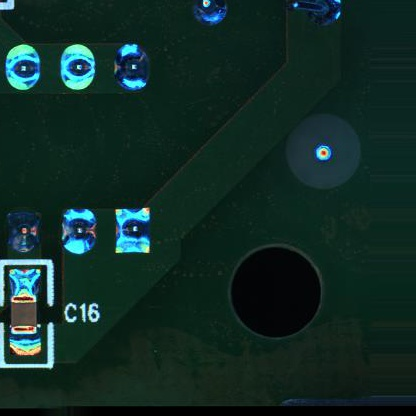spot: (114, 205, 155, 258), (59, 206, 99, 256), (3, 43, 43, 92), (113, 43, 151, 93), (60, 43, 96, 91), (7, 208, 41, 253)
